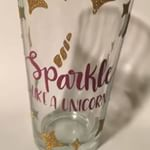cups: (13, 1, 138, 150)
